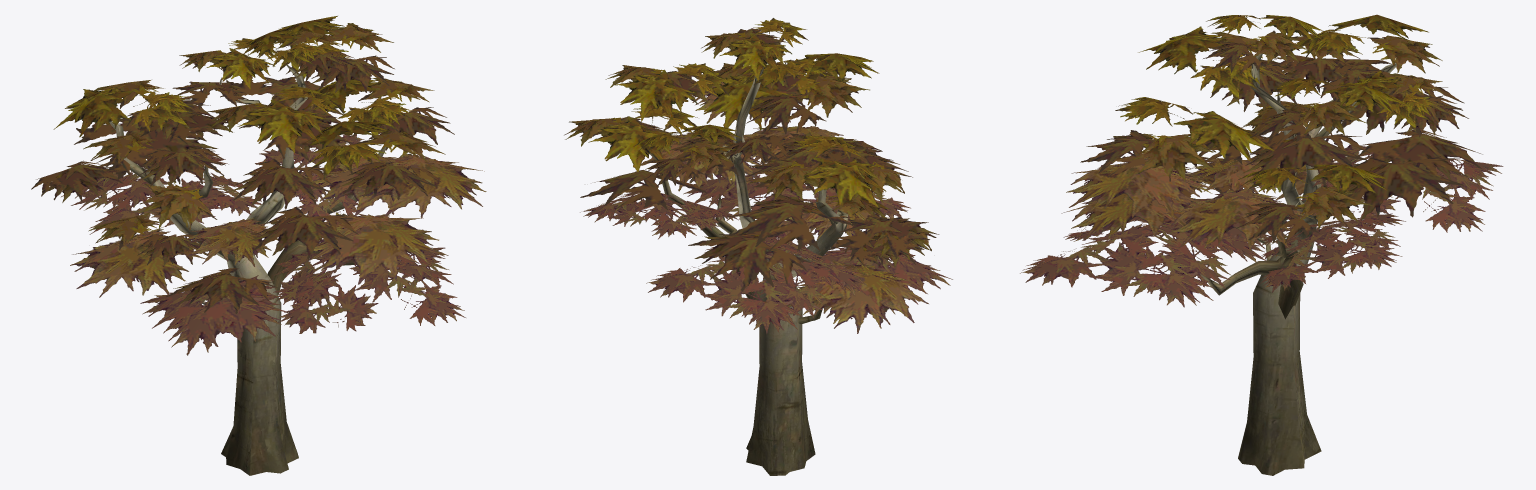
The model's file is THL3_3.fbx.
3 renders of one model, left to right at view 1: azimuth 30°, elevation 25°; view 2: azimuth 150°, elevation 25°; view 3: azimuth 270°, elevation 25°, orthographic. The views are drawn at different scales.
Visible parts, largest first — view 1: _Combined_Mesh_root_scene__Mesh_polySurface3334; view 2: _Combined_Mesh_root_scene__Mesh_polySurface3334; view 3: _Combined_Mesh_root_scene__Mesh_polySurface3334.
Boxes of the visible parts, x1=… form: _Combined_Mesh_root_scene__Mesh_polySurface3334: x1=31, y1=16, x2=486, y2=475; _Combined_Mesh_root_scene__Mesh_polySurface3334: x1=564, y1=18, x2=952, y2=475; _Combined_Mesh_root_scene__Mesh_polySurface3334: x1=1020, y1=14, x2=1503, y2=475.
Bounding box in the file's own units: 4.89 × 5.03 × 5.19.
